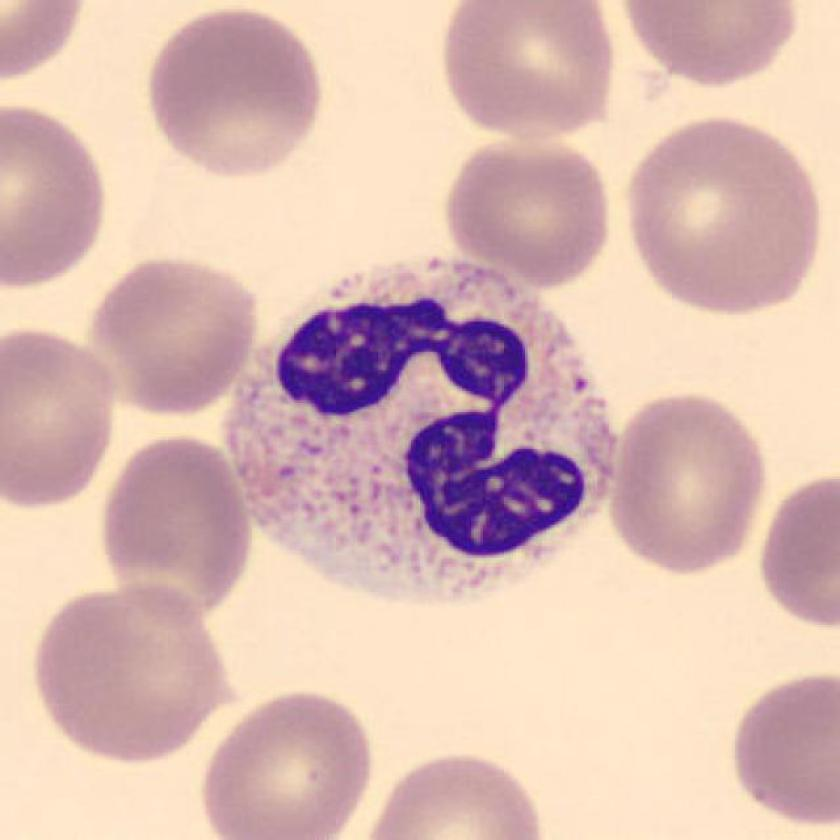neutrophil: (223, 260, 617, 602)
